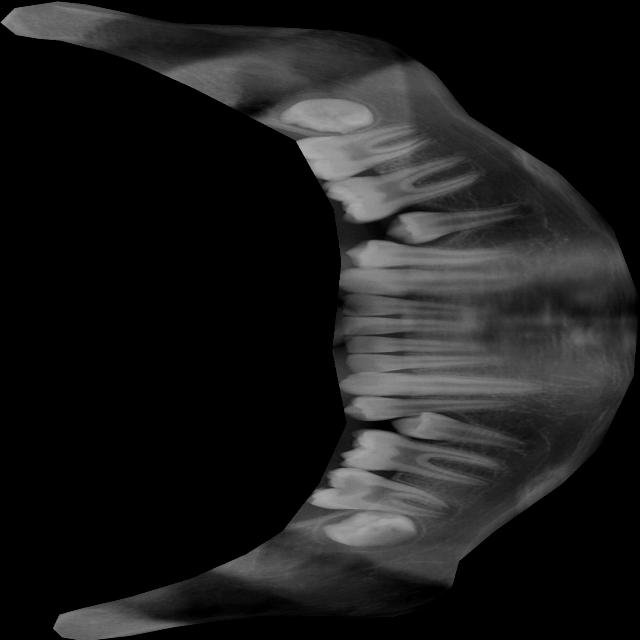mandibula: (0, 0, 640, 640)
